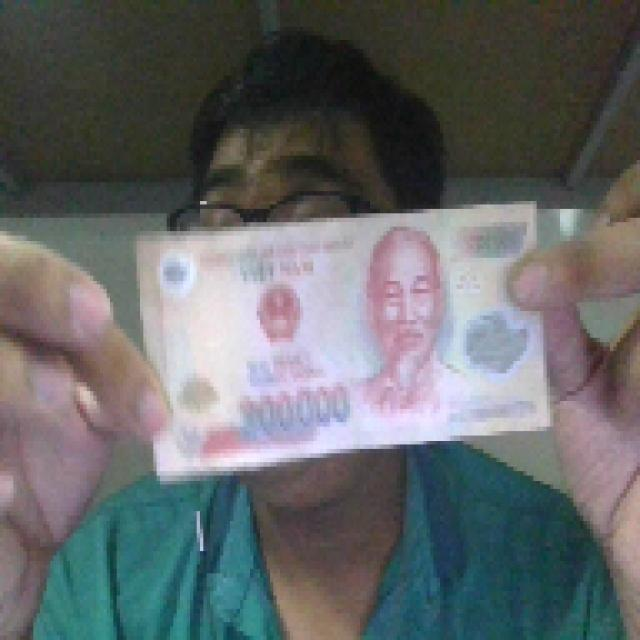200 000 VND: (130, 196, 557, 484)
